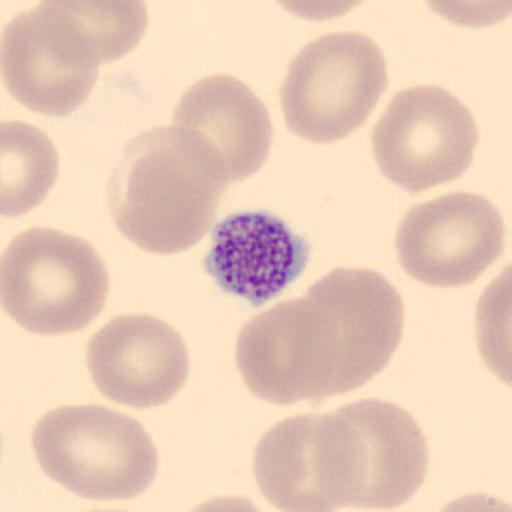Platelet: (200, 206, 314, 306)
RBC: (105, 123, 232, 256), (302, 266, 406, 401), (313, 397, 431, 511), (278, 27, 389, 146), (31, 402, 160, 504), (0, 224, 112, 338), (232, 296, 344, 410), (369, 82, 480, 196), (168, 70, 274, 184), (251, 410, 369, 511), (2, 4, 102, 117), (393, 191, 507, 290), (84, 311, 192, 411), (37, 1, 151, 64), (2, 119, 61, 220), (473, 263, 512, 389), (416, 0, 512, 31), (263, 0, 378, 24), (170, 492, 282, 512), (429, 489, 512, 511)
